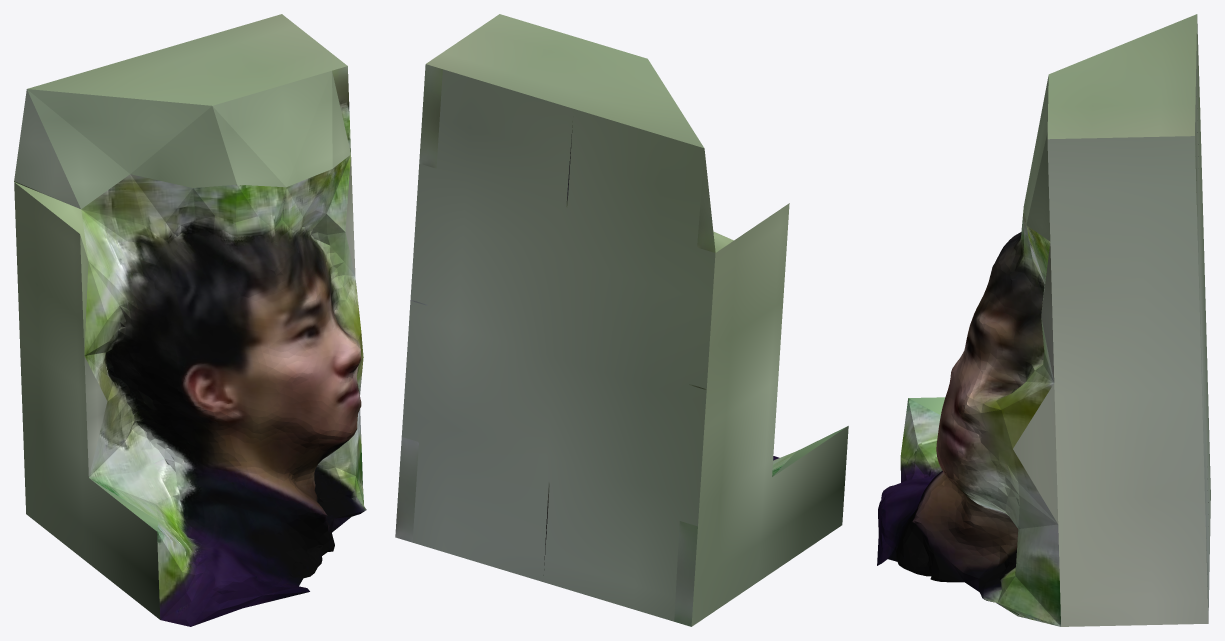
The model's file is panaken2.glb.
3 renders of one model, left to right at view 1: azimuth 30°, elevation 25°; view 2: azimuth 150°, elevation 25°; view 3: azimuth 270°, elevation 25°, orthographic. The views are drawn at different scales.
Visible parts, largest first — view 1: Mesh_0_Part_0; view 2: Mesh_0_Part_0; view 3: Mesh_0_Part_0.
Part boxes in pixels (x1=…): Mesh_0_Part_0: x1=14, y1=14, x2=366, y2=626; Mesh_0_Part_0: x1=395, y1=14, x2=848, y2=626; Mesh_0_Part_0: x1=877, y1=14, x2=1210, y2=626.
Size of the model in its own units: 1.52 by 2.29 by 1.38.
1 material, 1 textured.
